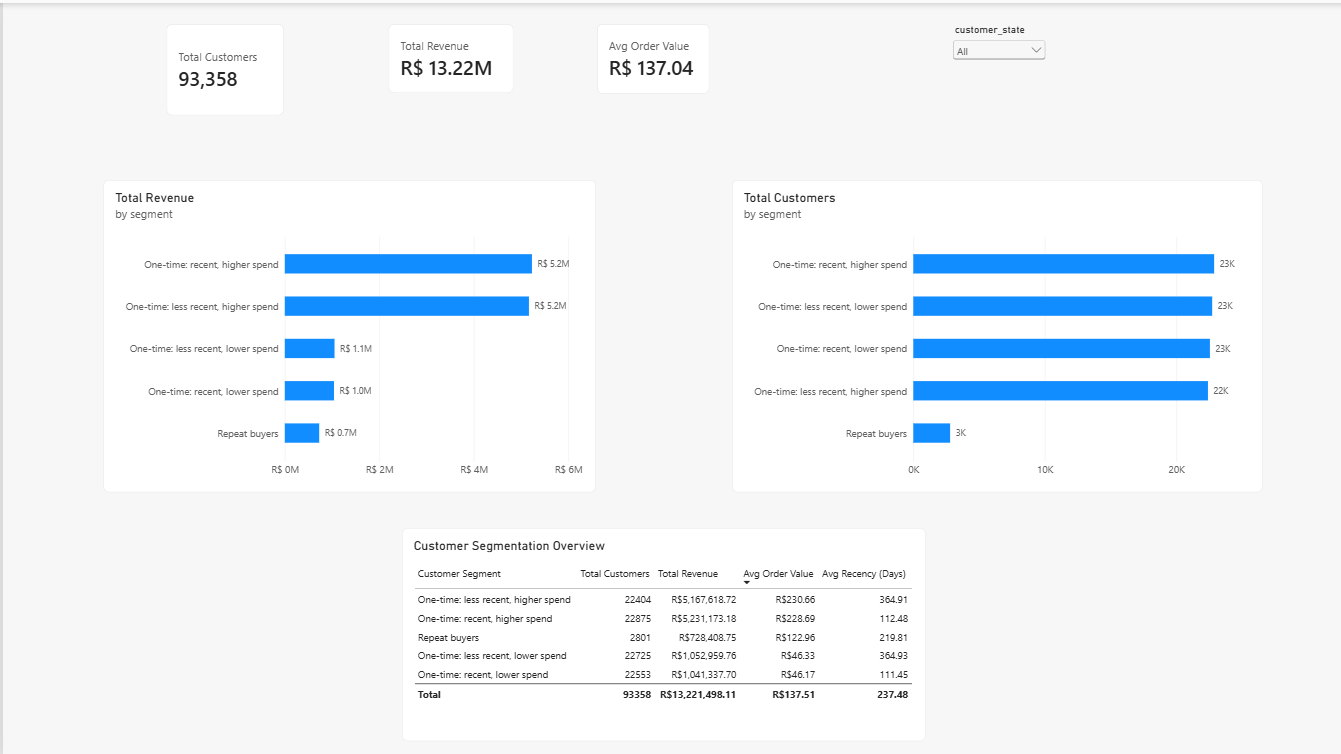

This screenshot's page, from the dashboard's own definition file:
{"tool":"powerbi","page":{"name":"Customer Segmentation","canvas":[1920,1080],"ordinal":0},"visuals":[{"type":"tableEx","title":"Customer Segmentation Overview","fields":{"Values":["customer_segments.segment","customer_segments.customer_unique_id","Sum(customer_segments.total_item_revenue)","Avg(customer_segments.average_order_value)","Avg(customer_segments.recency_days)"]},"box":[572.5,752.5,750,305],"z":0},{"type":"cardVisual","fields":{"Data":["customer_segments.Total Revenue"]},"box":[551.9,29.5,179.4,99.9],"z":1000},{"type":"cardVisual","fields":{"Data":["customer_segments.Total Customers"]},"box":[233.3,29.8,168.4,131.6],"z":2000},{"type":"cardVisual","fields":{"Data":["customer_segments.Avg Order Value"]},"box":[850.3,29.8,161.4,100],"z":3000},{"type":"clusteredBarChart","fields":{"Category":["customer_segments.segment"],"Y":["customer_segments.Total Revenue"]},"box":[145,252.5,705,447.5],"z":4000},{"type":"clusteredBarChart","fields":{"Category":["customer_segments.segment"],"Y":["customer_segments.Total Customers"]},"box":[1045,252.5,760,447.5],"z":5000},{"type":"slicer","fields":{"Values":["customer_segments.customer_state"]},"box":[1355,30,142.1,70.2],"z":6000},{"type":"textbox","box":[1372.5,21,161,150],"z":7000}]}

Visuals, with their boxes in screenshot pixels (x1, y1, x2, y2), scaled from the page's 1920x1080 canvas onto the 1341x754 screenshot:
"Customer Segmentation Overview" tableEx: BBox(400, 525, 924, 738)
cardVisual - customer_segments.Total Revenue: BBox(385, 21, 511, 90)
cardVisual - customer_segments.Total Customers: BBox(163, 21, 281, 113)
cardVisual - customer_segments.Avg Order Value: BBox(594, 21, 707, 91)
clusteredBarChart - customer_segments.segment x customer_segments.Total Revenue: BBox(101, 176, 594, 489)
clusteredBarChart - customer_segments.segment x customer_segments.Total Customers: BBox(730, 176, 1261, 489)
slicer - customer_segments.customer_state: BBox(946, 21, 1046, 70)
textbox: BBox(959, 15, 1071, 119)
